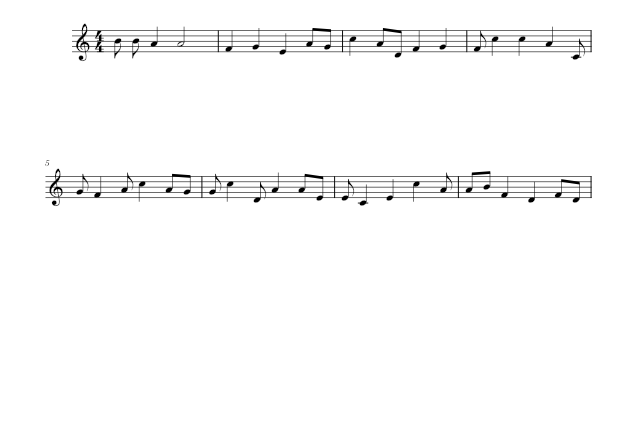Treble Clef: (71, 18, 91, 64), (45, 167, 66, 210)
